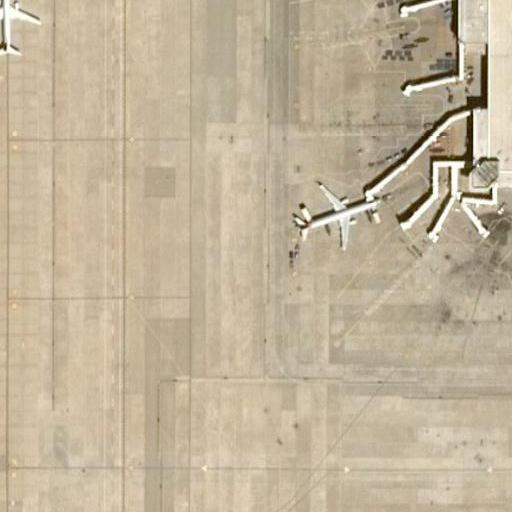Aircraft: (288, 181, 380, 249), (0, 0, 41, 63)
